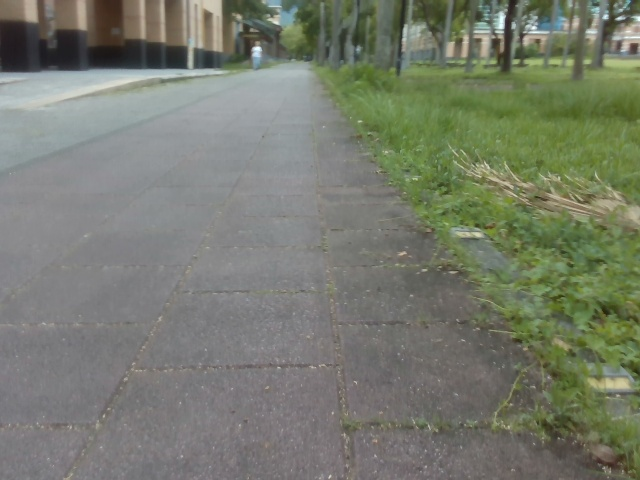grass: (309, 59, 639, 479), (224, 0, 639, 80)
road: (0, 64, 625, 479)
sidewalk: (0, 71, 218, 107)
